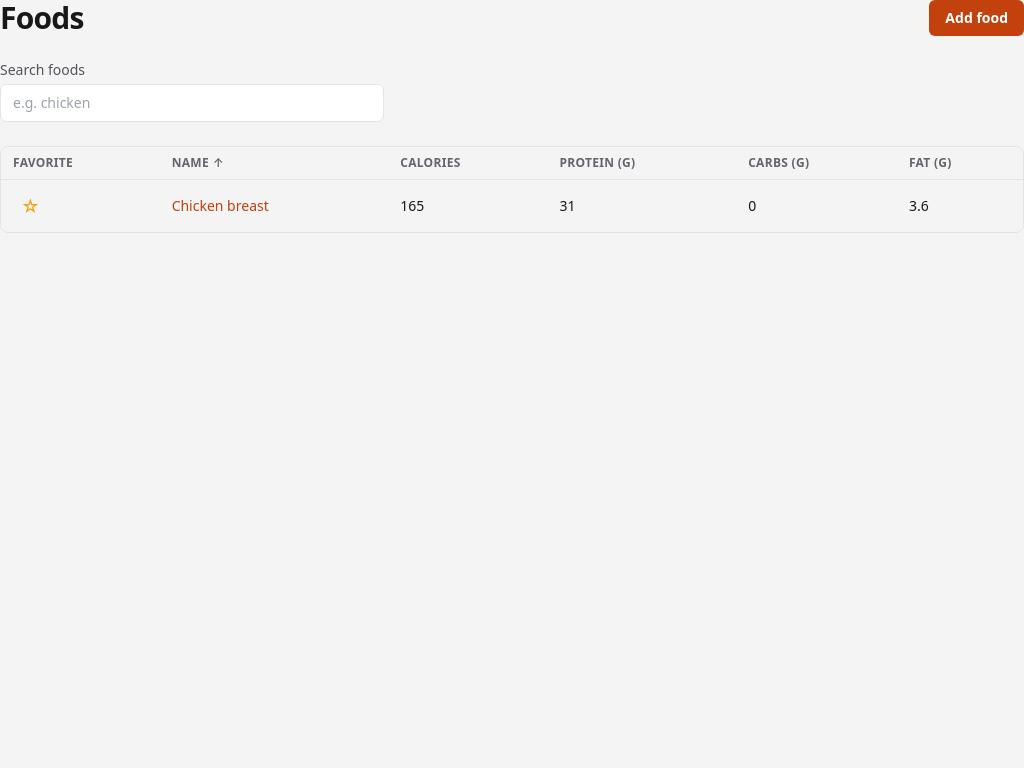
Test case: FoodsPage › submits only changed fields on save and shows the recompute count in the toast
Click the button "Chicken breast": (220, 206) [172,196,269,216]
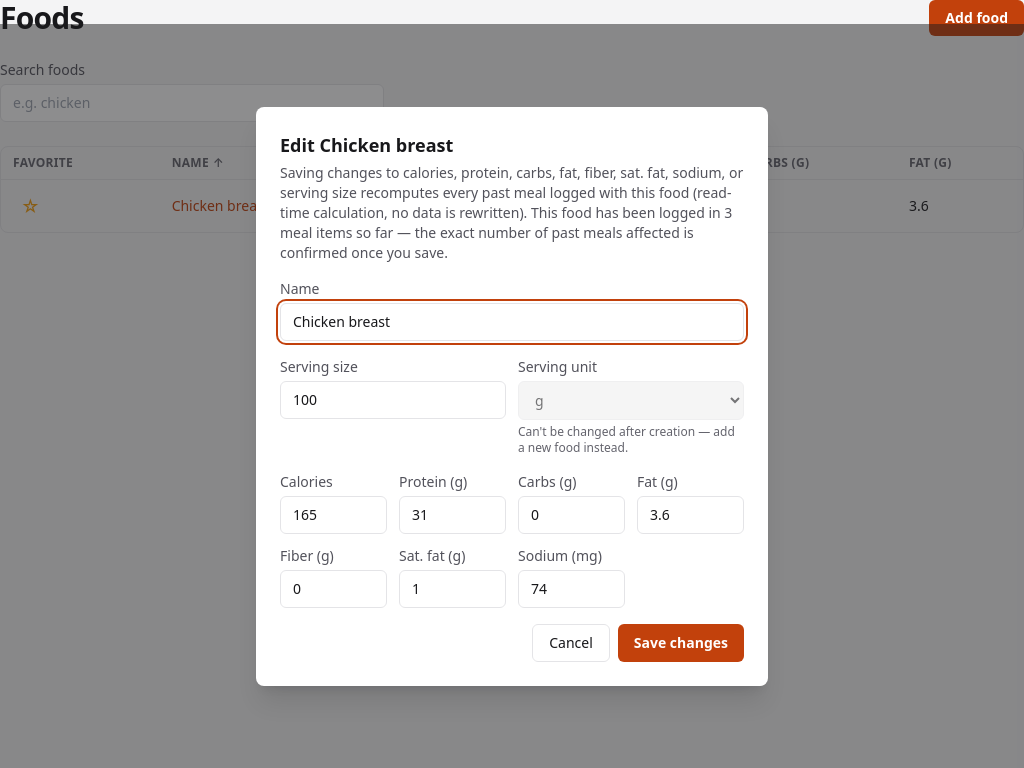
Replace the text in the number field labelled "Calories" with "200": (334, 514) [280,496,387,534]
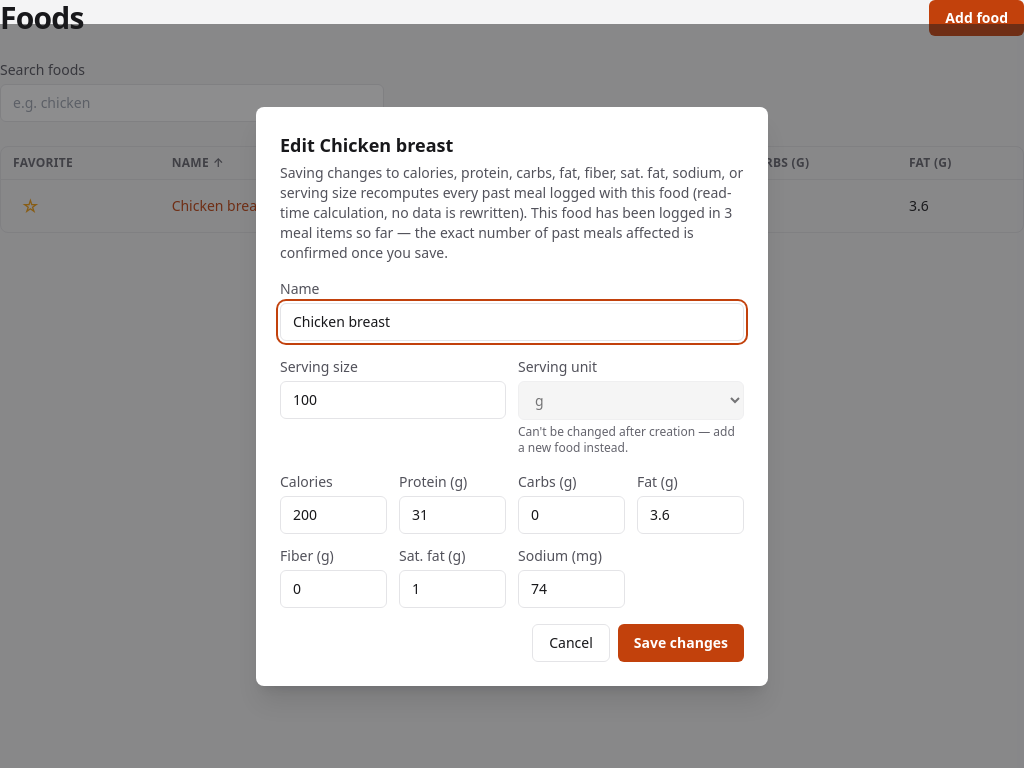
Click the button "Save changes": (681, 642) [618,624,744,662]
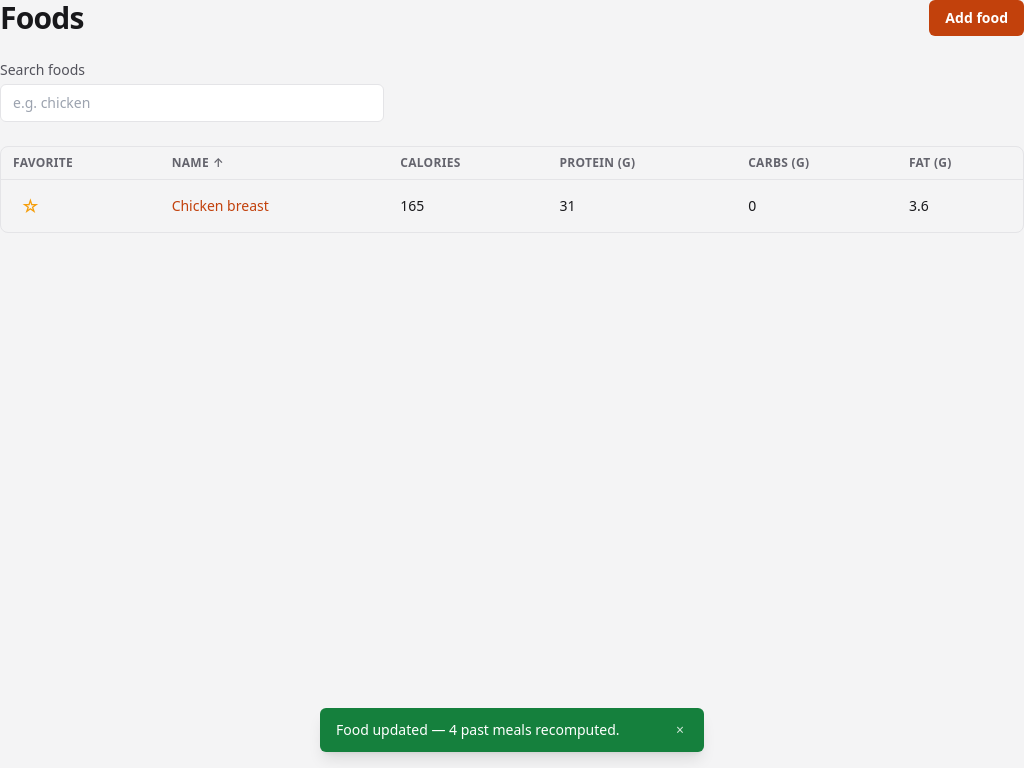
expect the text "Food updated — 4 past meals recomputed." is shown: met, box [336,720,620,740]
expect the dialog is gone: met
